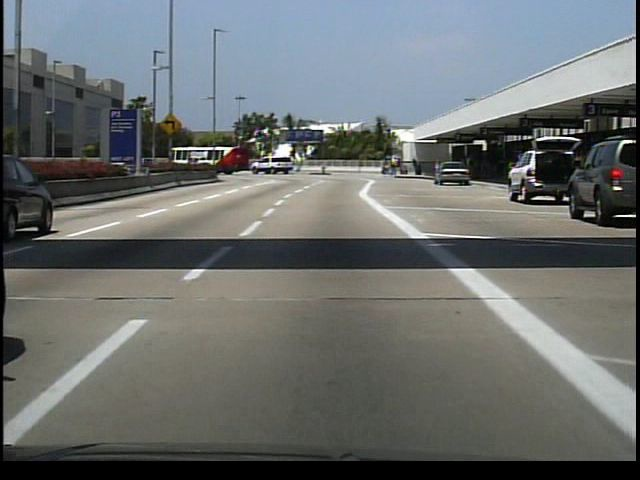person: (463, 152, 479, 182), (389, 153, 399, 178)
